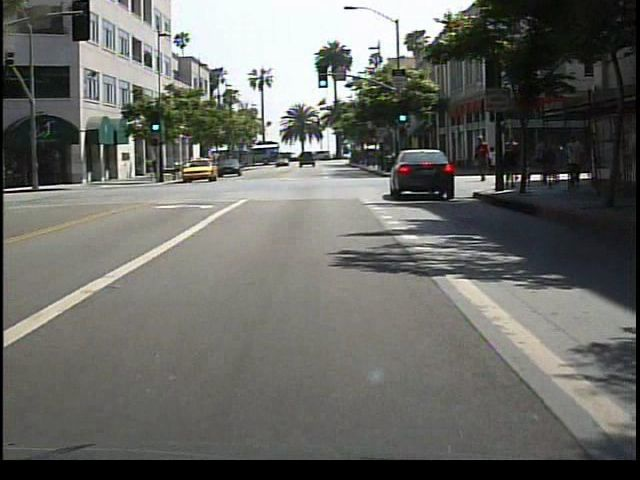person: (471, 133, 497, 187)
